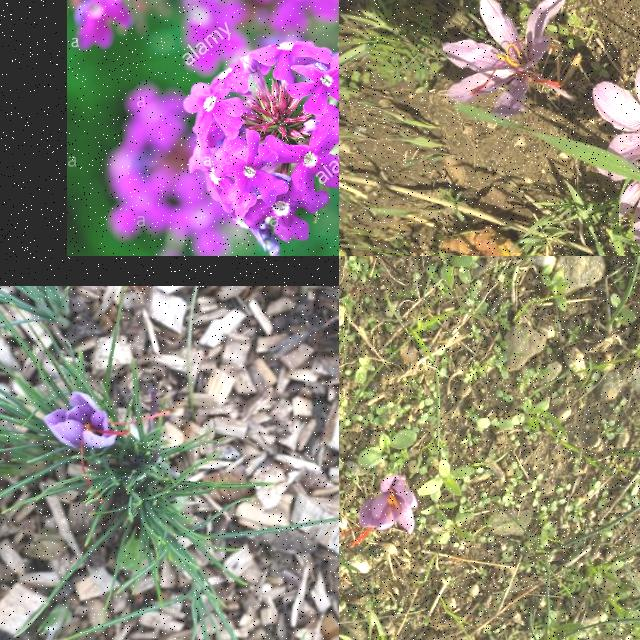flower: (440, 0, 568, 118), (44, 392, 170, 504), (593, 59, 640, 193), (342, 476, 420, 548), (596, 163, 640, 246)
